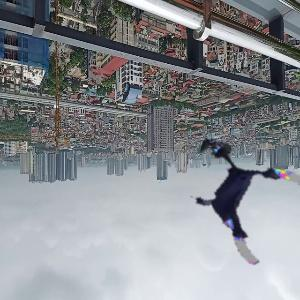drone: (187, 150, 299, 262)
